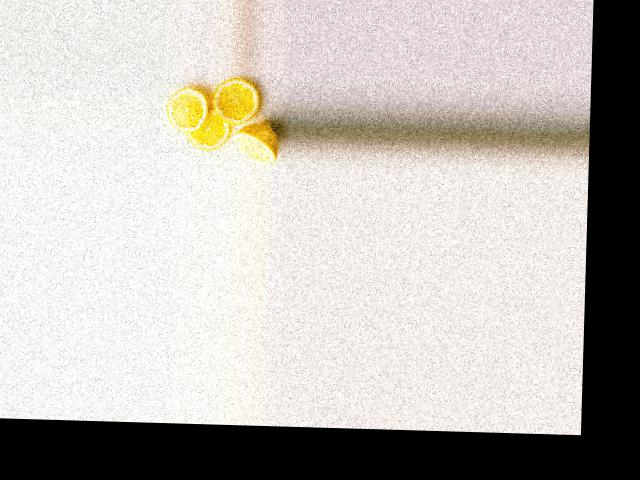lemon: (232, 124, 281, 166)
